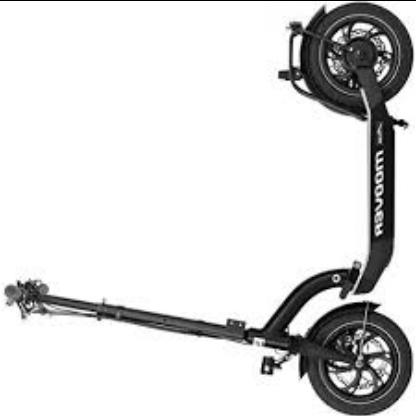bike: (0, 1, 416, 416)
